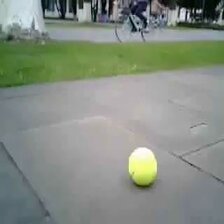tennis: (128, 147, 158, 187)
